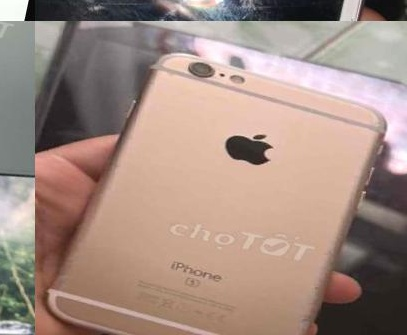scratch: (256, 188, 370, 335), (35, 206, 111, 326), (323, 90, 407, 149)
